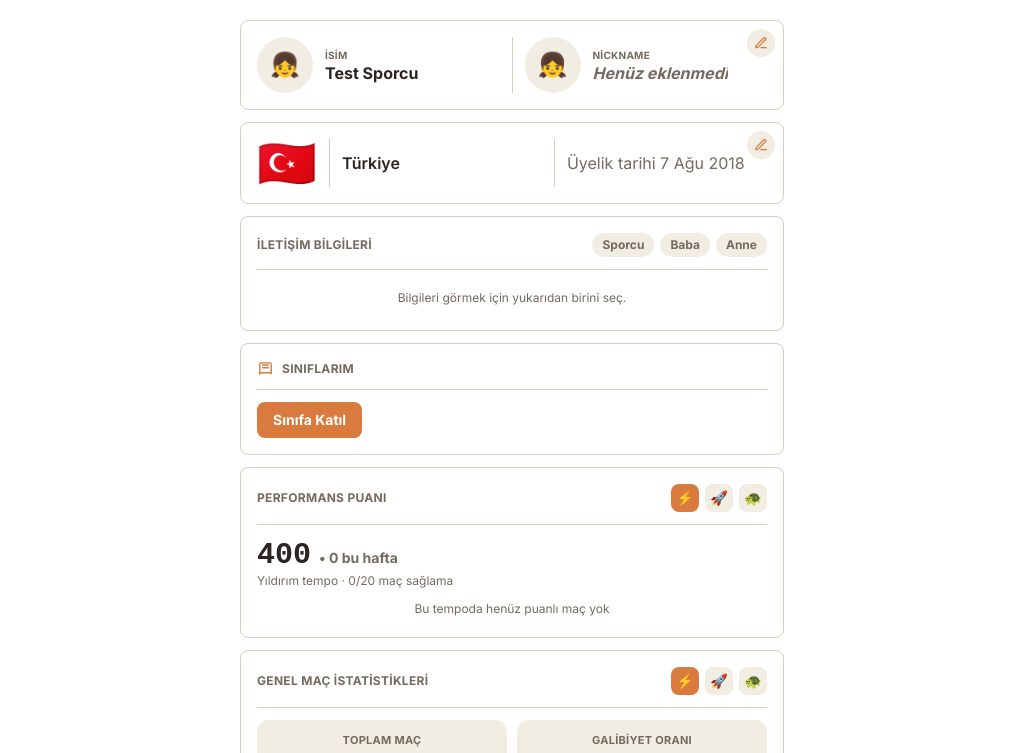
Test case: Sınıf Bilgileri kartı (Sınıflarım — Madde 3) › kod girip kaydedince kart sınıf bilgisiyle güncellenir, buton kaybolur
expect the text "Test Sporcu" is shown: met, box [325,62,418,82]
Click the button "Sınıfa Katıl".
click(310, 420)  # box [257,402,362,438]
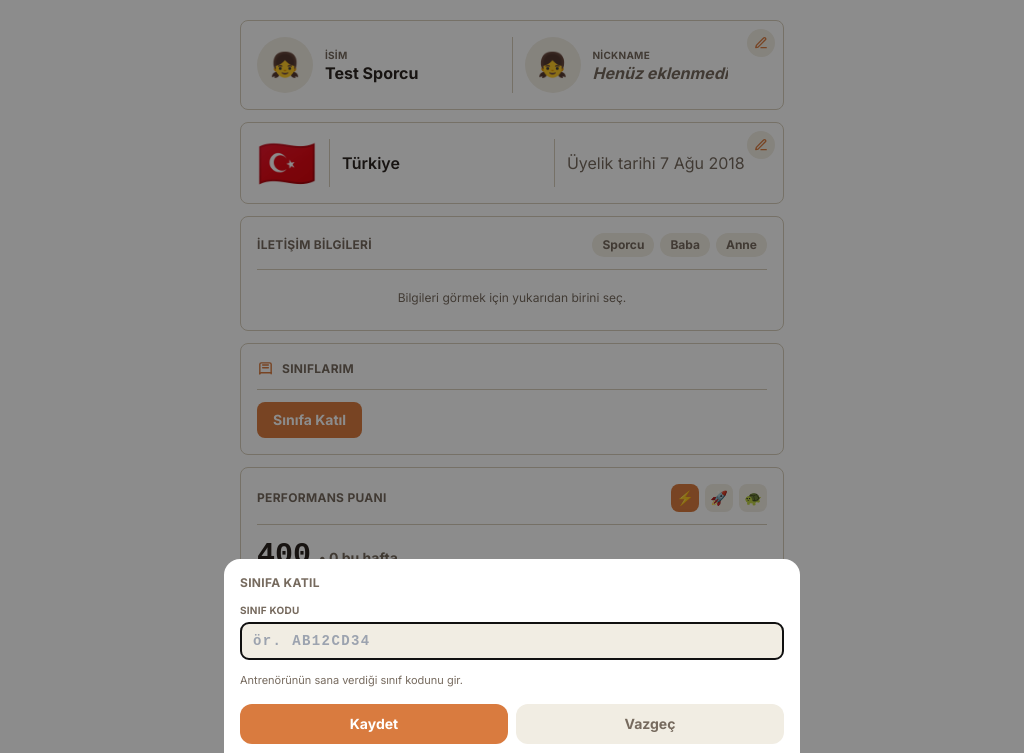
Type "goodcode" into the field labelled "Sınıf Kodu".
click(512, 640); type("goodcode")  # box [240,622,784,660]
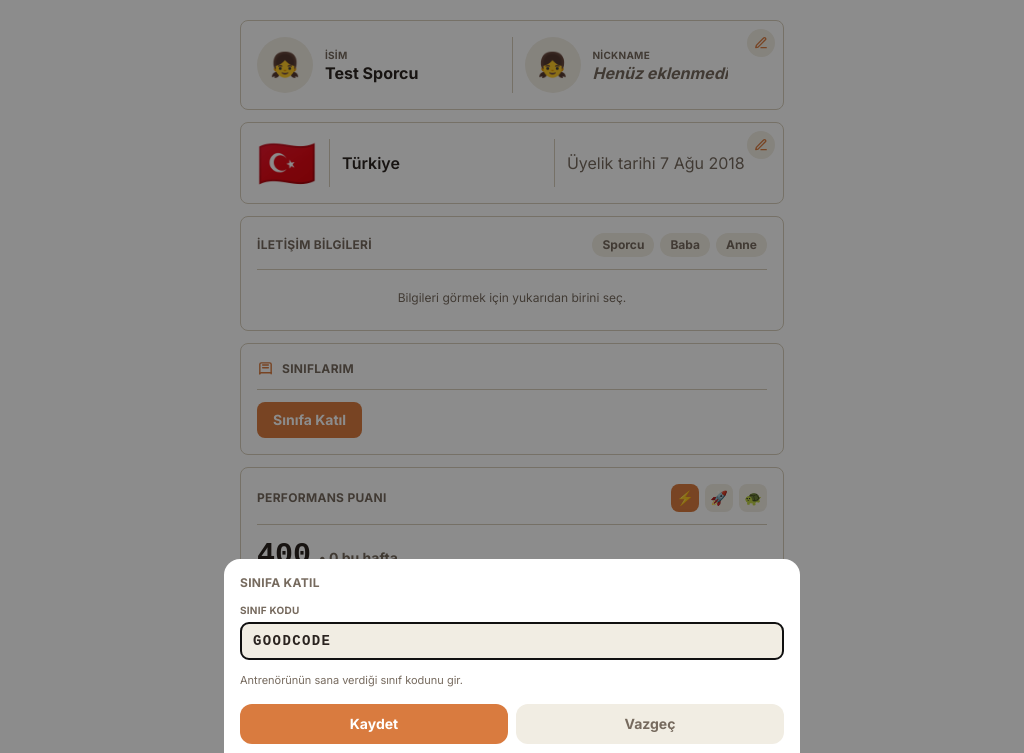
Click the button "Kaydet".
click(374, 724)  # box [240,704,508,744]
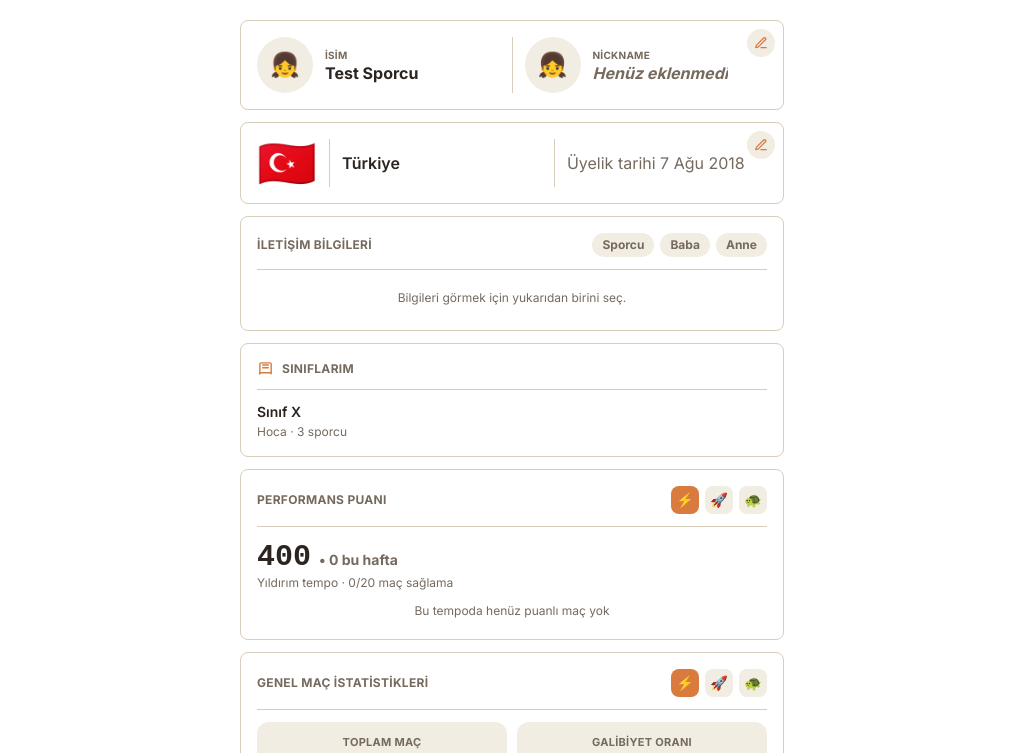
expect the text "Sınıf X" is shown: met, box [257,403,301,420]
expect the text "Hoca · 3 sporcu" is shown: met, box [257,424,347,439]
expect the button "Sınıfa Katıl" is gone: met
